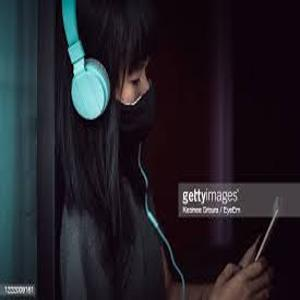Headphones: (59, 1, 152, 124)
